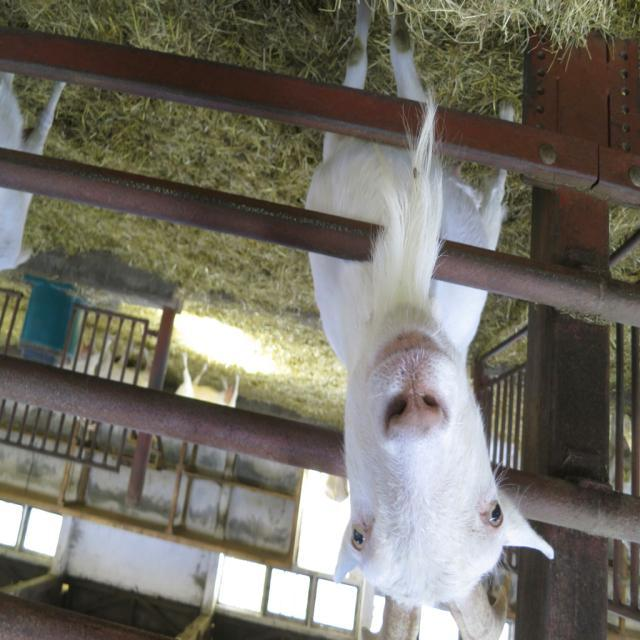Goat: (304, 2, 556, 639), (2, 71, 68, 272)
